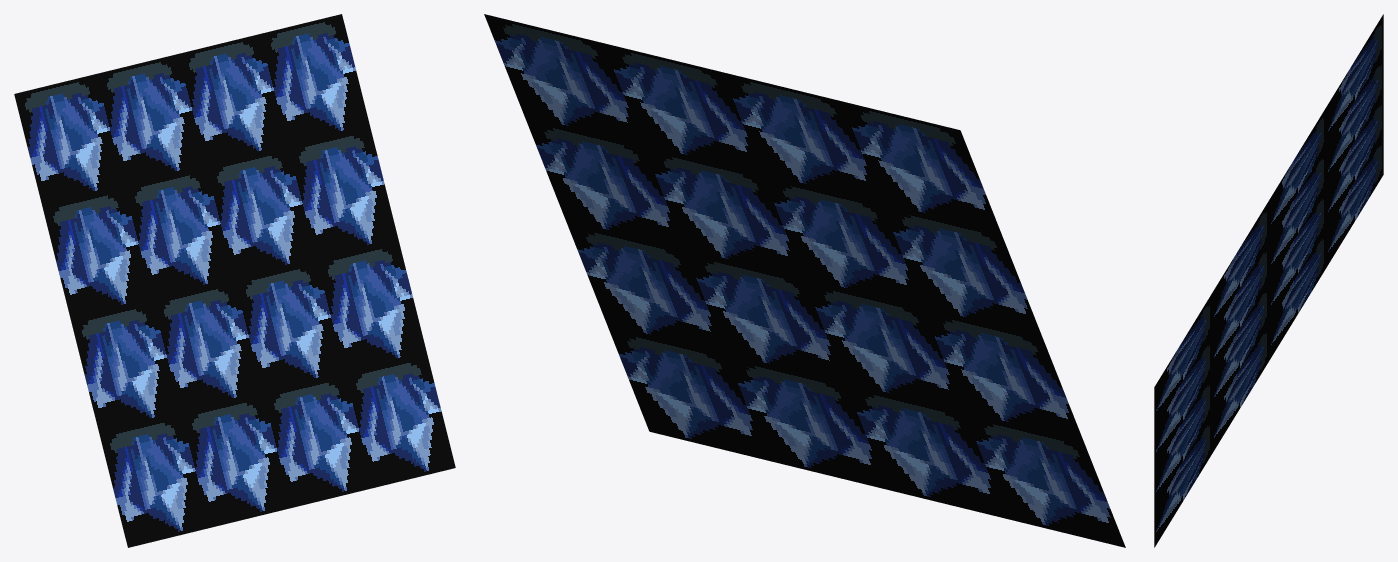
File: 0661icon_metal.gltf
The picture shows the model from 3 angles, left to right: view 1: azimuth 30°, elevation 25°; view 2: azimuth 150°, elevation 25°; view 3: azimuth 270°, elevation 25°; orthographic projection. The views are drawn at different scales.
Visible parts, largest first — view 1: 0661icon_metal; view 2: 0661icon_metal; view 3: 0661icon_metal.
Part boxes in pixels (x1,y1,x2,y2): 0661icon_metal: (14,14,455,547); 0661icon_metal: (484,14,1125,547); 0661icon_metal: (1154,14,1383,547).
Size of the model in its own units: 0.6287 by 0.6792 by 0.3779.
Materials: 1 (1 with a texture image).
